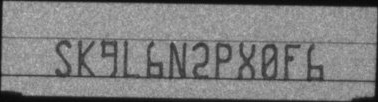0: (260, 40, 277, 81)
2: (192, 40, 210, 80)
6: (146, 39, 164, 78), (306, 42, 324, 81)
9: (100, 39, 118, 77)
F: (282, 43, 301, 82)
K: (77, 38, 95, 78)
L: (123, 39, 140, 80)
N: (169, 39, 187, 80)
P: (213, 40, 233, 80)
S: (55, 40, 73, 77)
X: (237, 39, 258, 80)
